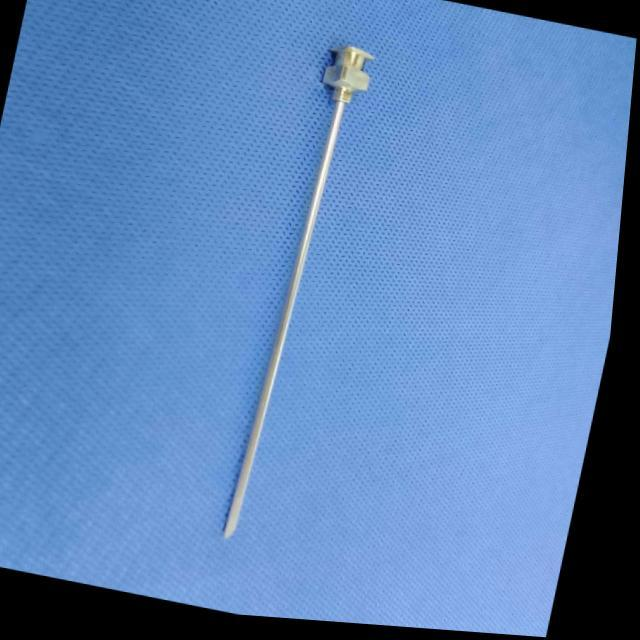General: (1, 0, 640, 639)
Sharps: (223, 44, 376, 539)
